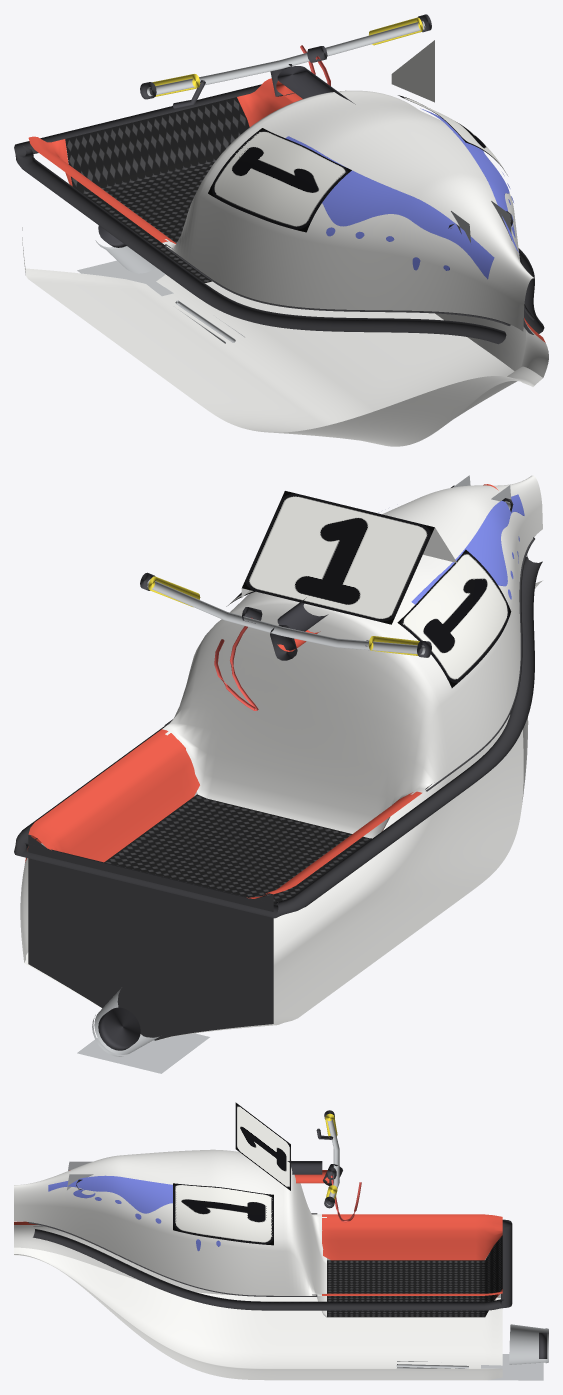
File: standup.glb
3 views of the same model, one above another, from view 1: azimuth 30°, elevation 25°; view 2: azimuth 150°, elevation 25°; view 3: azimuth 270°, elevation 25° (orthographic). The views are drawn at different scales.
Parts seen in each view (by area): view 1: Hull, Plate1, Bars, Pole; view 2: Hull, Plate1, Bars, Pole; view 3: Hull, Plate1, Bars, Pole.
Part boxes in pixels (x1,y1,x2,y2): Hull: (14,40,548,446); Plate1: (208,95,507,232); Bars: (140,14,431,108); Pole: (276,66,355,104); Hull: (14,475,542,1073); Plate1: (226,491,511,687); Bars: (140,572,431,710); Pole: (277,484,498,651); Hull: (14,1149,548,1380); Plate1: (173,1102,290,1245); Bars: (316,1110,361,1222); Pole: (69,1161,329,1183).
Size of the model in its own units: 0.88 by 1.11 by 2.22.
Materials: 14 (3 with a texture image).
